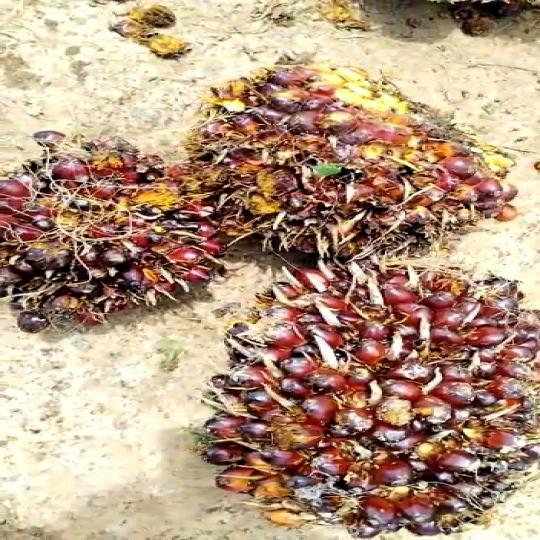masak: (198, 254, 540, 540), (160, 63, 534, 278), (0, 120, 227, 330)
